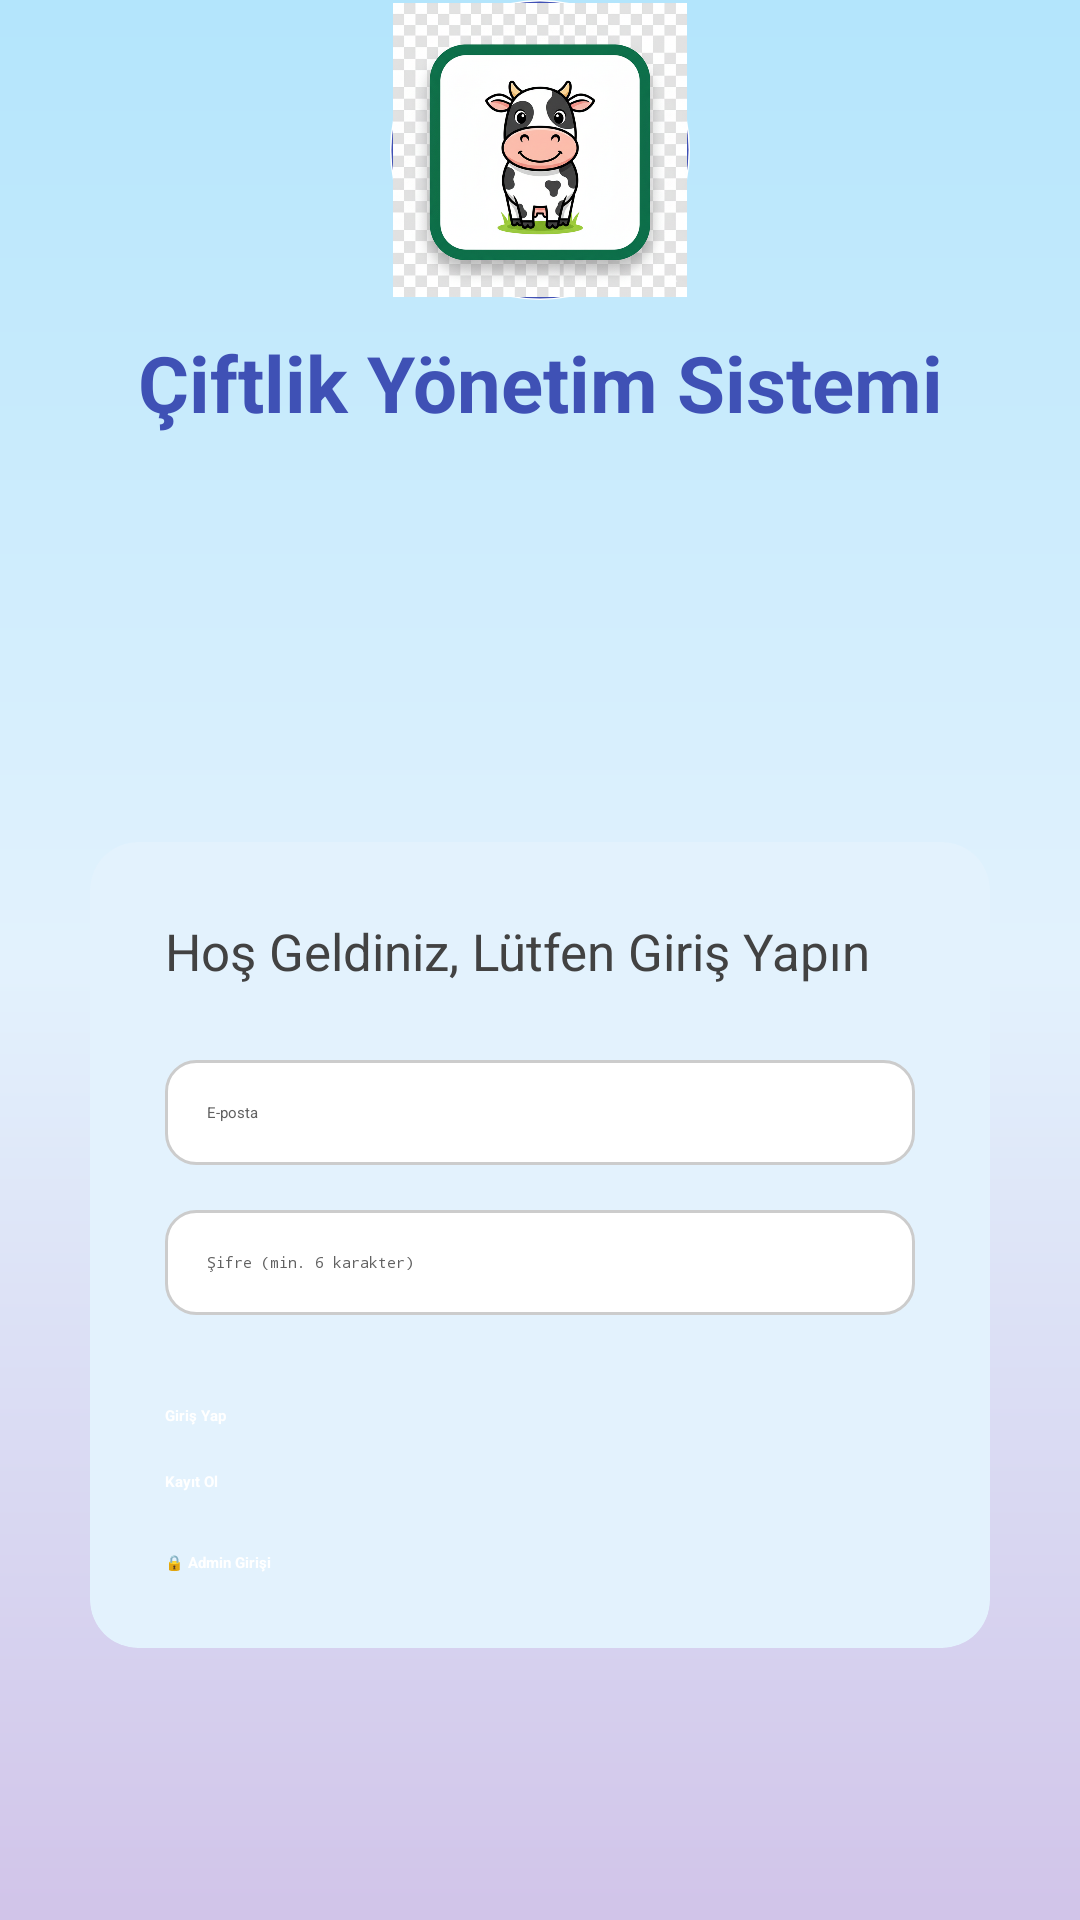

Screen size 1080w x 1920h. Icon name, then its center in pixels as (x,y):
inekresmi: (540,150)
